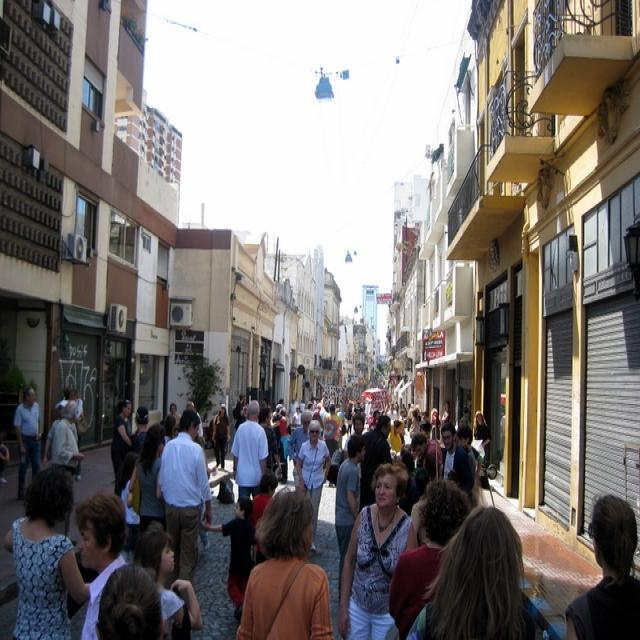body: (400, 501, 556, 639), (0, 461, 95, 639), (334, 460, 420, 639), (234, 488, 335, 640), (388, 474, 474, 640), (259, 371, 475, 426), (564, 493, 640, 640), (158, 407, 214, 590), (71, 488, 129, 640), (131, 528, 204, 640), (201, 495, 260, 620), (332, 430, 367, 606), (93, 560, 166, 640), (49, 398, 86, 546), (126, 421, 168, 543), (295, 419, 333, 552), (230, 397, 271, 503), (12, 384, 45, 503), (357, 414, 395, 514), (248, 471, 280, 566), (439, 420, 473, 497), (110, 397, 133, 495), (287, 409, 314, 488), (320, 401, 343, 488), (409, 430, 444, 482), (129, 404, 150, 483), (42, 399, 65, 469), (456, 422, 484, 478), (69, 387, 85, 482), (211, 403, 231, 473), (256, 405, 278, 468), (472, 410, 492, 470), (342, 412, 366, 461), (345, 411, 367, 461), (185, 400, 207, 448), (387, 418, 406, 462), (271, 404, 288, 447), (0, 436, 12, 487), (231, 391, 247, 429), (269, 405, 288, 436), (168, 401, 182, 439), (497, 404, 506, 463), (162, 413, 176, 447), (310, 402, 323, 434), (344, 402, 355, 438), (200, 411, 209, 453), (55, 387, 72, 409), (352, 398, 364, 426), (291, 404, 301, 437), (288, 396, 296, 429), (304, 402, 313, 426), (299, 396, 306, 419)
